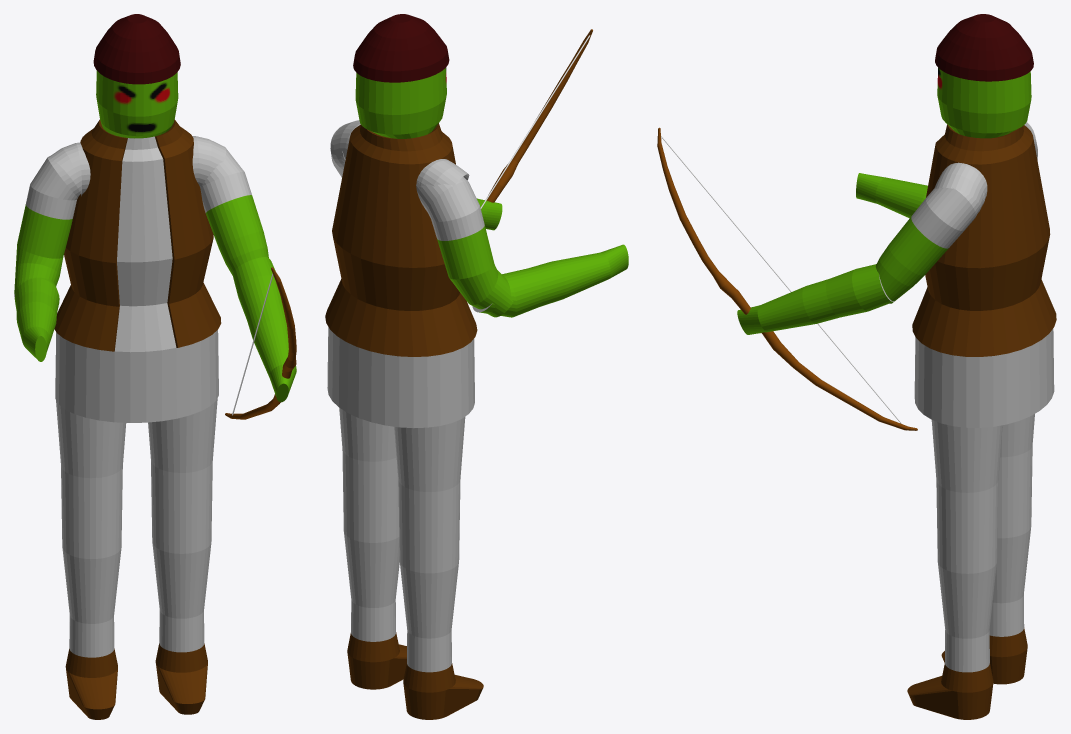
The model's file is ОркЛучник0.fbx.
3 renders of one model, left to right at view 1: azimuth 30°, elevation 25°; view 2: azimuth 150°, elevation 25°; view 3: azimuth 270°, elevation 25°, orthographic.
Parts seen in each view (by area): view 1: Цилиндр.290, Цилиндр.280, Цилиндр.284, Цилиндр.283, Цилиндр.285, Цилиндр.282, Цилиндр.288, Цилиндр.286, Цилиндр.281, Цилиндр.287, Цилиндр.289, Цилиндр.294 (+2 smaller); view 2: Цилиндр.280, Цилиндр.290, Цилиндр.284, Цилиндр.285, Цилиндр.282, Цилиндр.283, Цилиндр.288, Цилиндр.281, Цилиндр.289, Цилиндр.294, Цилиндр.291, Цилиндр.292 (+1 smaller); view 3: Цилиндр.280, Цилиндр.290, Цилиндр.283, Цилиндр.282, Цилиндр.286, Цилиндр.287, Цилиндр.281, Цилиндр.285, Цилиндр.284, Цилиндр.294, Цилиндр.289, Цилиндр.292.
Part boxes in pixels (x1=…): Цилиндр.290: x1=55, y1=70, x2=218, y2=422; Цилиндр.280: x1=54, y1=119, x2=221, y2=351; Цилиндр.284: x1=56, y1=400, x2=126, y2=558; Цилиндр.283: x1=148, y1=398, x2=217, y2=553; Цилиндр.285: x1=62, y1=548, x2=121, y2=719; Цилиндр.282: x1=152, y1=543, x2=211, y2=714; Цилиндр.288: x1=14, y1=156, x2=80, y2=297; Цилиндр.286: x1=200, y1=147, x2=268, y2=275; Цилиндр.281: x1=93, y1=14, x2=180, y2=84; Цилиндр.287: x1=232, y1=256, x2=296, y2=402; Цилиндр.289: x1=14, y1=277, x2=59, y2=361; Цилиндр.294: x1=225, y1=267, x2=296, y2=419; Цилиндр.280: x1=325, y1=123, x2=477, y2=356; Цилиндр.290: x1=327, y1=67, x2=474, y2=428; Цилиндр.284: x1=394, y1=417, x2=465, y2=573; Цилиндр.285: x1=399, y1=562, x2=483, y2=719; Цилиндр.282: x1=344, y1=532, x2=406, y2=689; Цилиндр.283: x1=339, y1=408, x2=399, y2=542; Цилиндр.288: x1=416, y1=176, x2=513, y2=317; Цилиндр.281: x1=353, y1=14, x2=449, y2=82; Цилиндр.289: x1=472, y1=244, x2=628, y2=317; Цилиндр.294: x1=487, y1=29, x2=592, y2=202; Цилиндр.291: x1=416, y1=159, x2=469, y2=188; Цилиндр.292: x1=333, y1=120, x2=360, y2=166; Цилиндр.280: x1=912, y1=124, x2=1056, y2=356; Цилиндр.290: x1=914, y1=67, x2=1054, y2=427; Цилиндр.283: x1=931, y1=420, x2=1002, y2=573; Цилиндр.282: x1=907, y1=562, x2=996, y2=719; Цилиндр.286: x1=875, y1=187, x2=984, y2=303; Цилиндр.287: x1=737, y1=264, x2=894, y2=334; Цилиндр.281: x1=935, y1=14, x2=1033, y2=81; Цилиндр.285: x1=941, y1=528, x2=1030, y2=684; Цилиндр.284: x1=997, y1=414, x2=1034, y2=538; Цилиндр.294: x1=657, y1=127, x2=917, y2=430; Цилиндр.289: x1=856, y1=173, x2=927, y2=218; Цилиндр.292: x1=934, y1=162, x2=987, y2=212.
Size of the model in its own units: 44.31 by 114 by 61.06.
